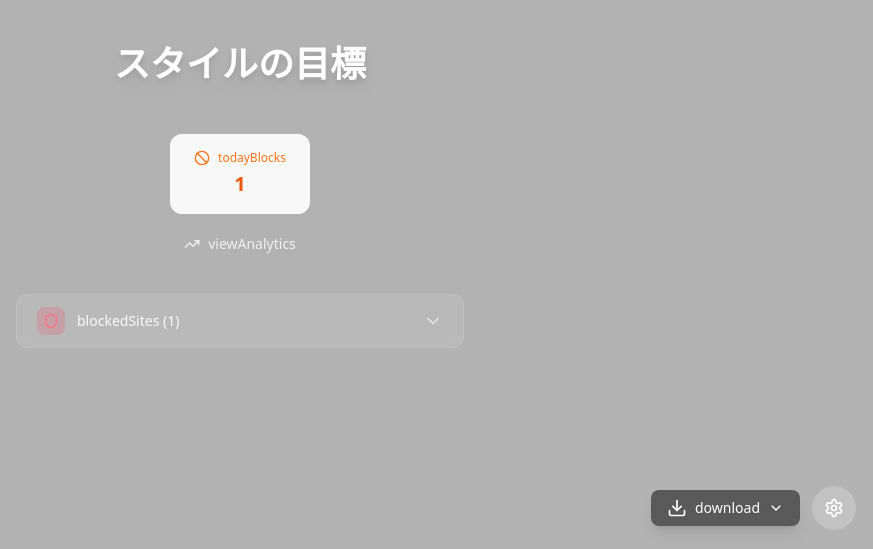
数値は activity から導出する › ブロック中のサイト一覧の回数は、サイトの保持期間全体の合計
Click the button with test id "newtab-blocked-sites-toggle": (118, 320) [16,294,464,348]
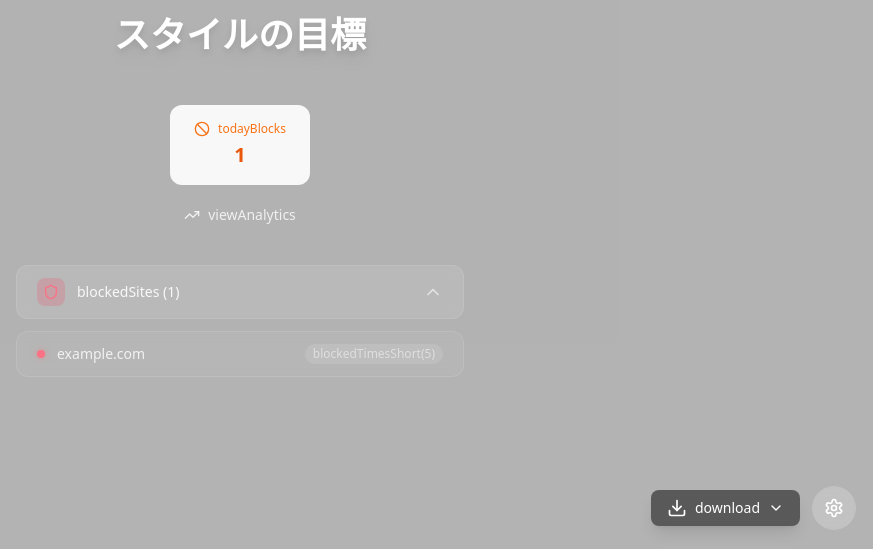
Now the text "blockedTimesShort(5)" is shown, box [305,344,443,364]
